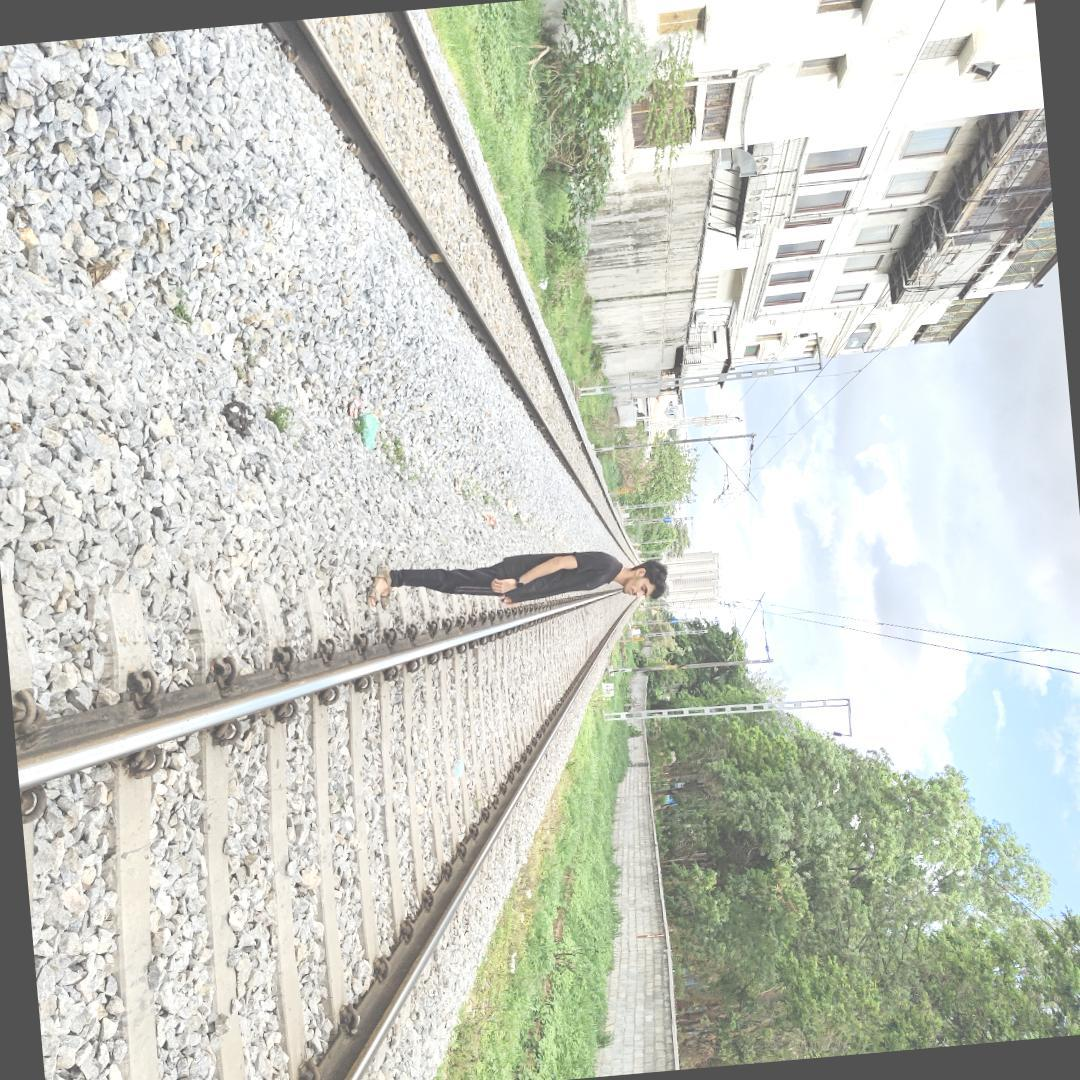standing: (364, 539, 675, 622)
